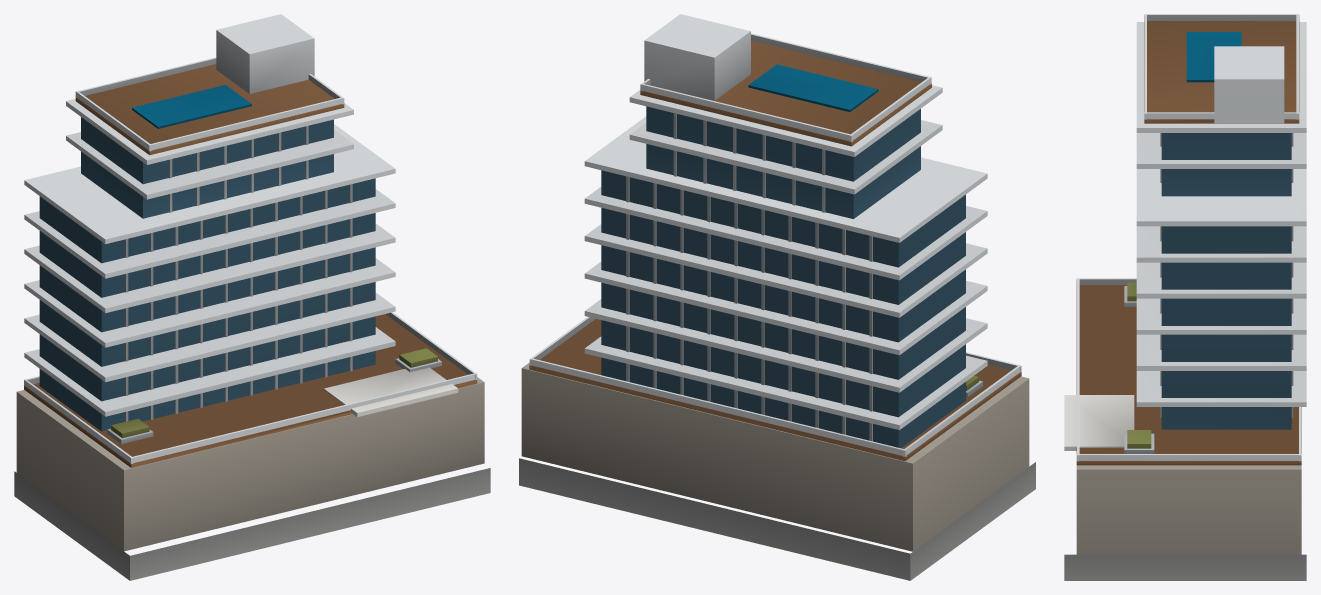
File: hotel-tower.glb
The picture shows the model from 3 angles, left to right: view 1: azimuth 30°, elevation 25°; view 2: azimuth 150°, elevation 25°; view 3: azimuth 270°, elevation 25°; orthographic projection. The views are drawn at different scales.
Parts seen in each view (by area): view 1: hotel-tower; view 2: hotel-tower; view 3: hotel-tower.
Boxes of the visible parts, bbox=[...] form: hotel-tower: bbox=[14, 14, 490, 580]; hotel-tower: bbox=[519, 14, 1035, 580]; hotel-tower: bbox=[1064, 14, 1306, 580].
Size of the model in its own units: 45 by 51 by 25.
